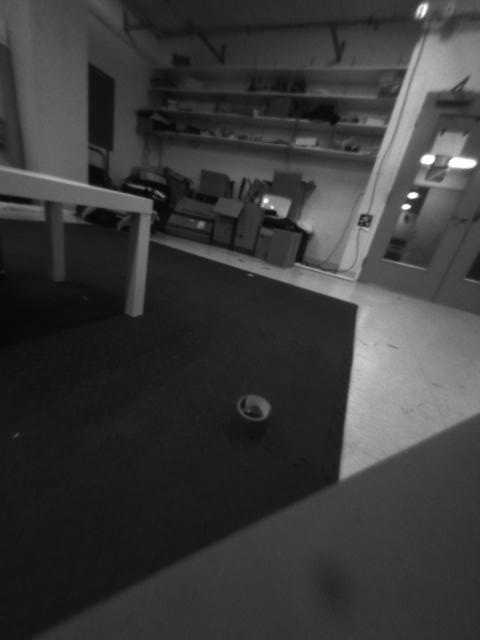dogtoy: (212, 381, 282, 441)
